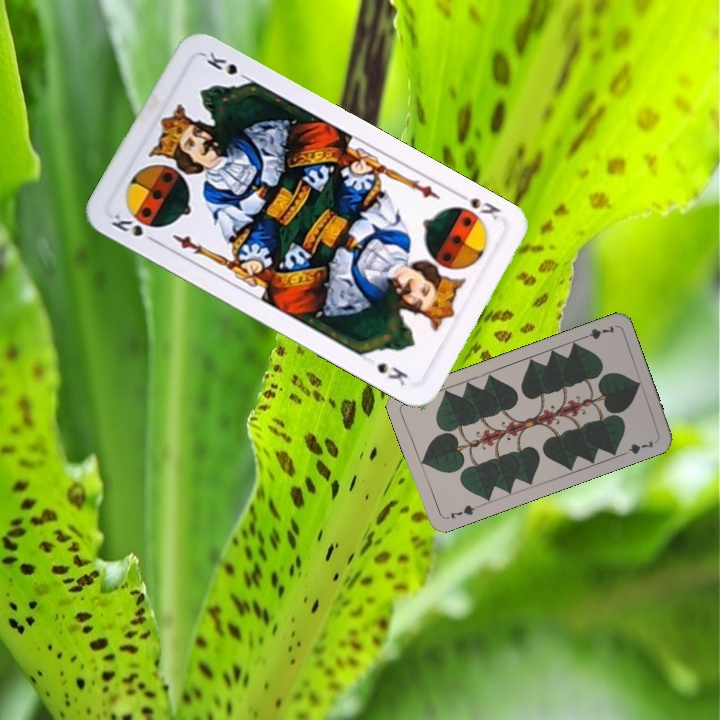G7: (577, 321, 617, 342), (446, 501, 481, 522)
SK: (107, 209, 161, 247), (452, 188, 503, 223)
